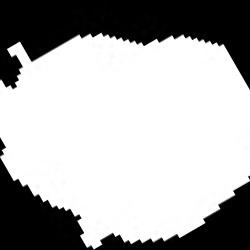spot: (2, 33, 249, 247)
